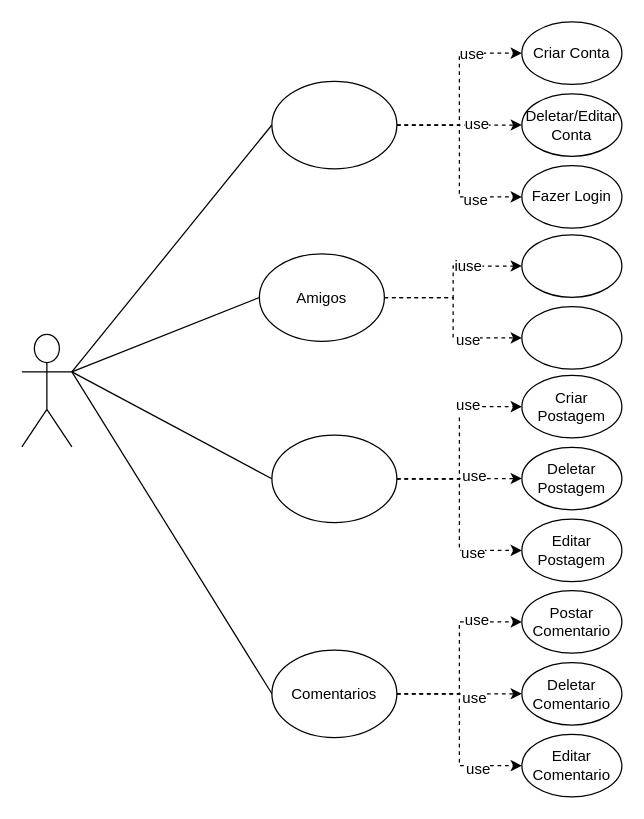
The diagram is 644 pixels wide and 819 high, and some of its shapes have lost their labels. The shapes that lost their labels are listed below. From the top down, each one's box as (x1, y1, x2, y2) in pixels, then its label:
(271, 80, 397, 169): Conta
(521, 234, 622, 297): Adicionar
(521, 305, 622, 369): Remover
(21, 333, 72, 447): Usuario
(271, 434, 397, 522): Postagens
